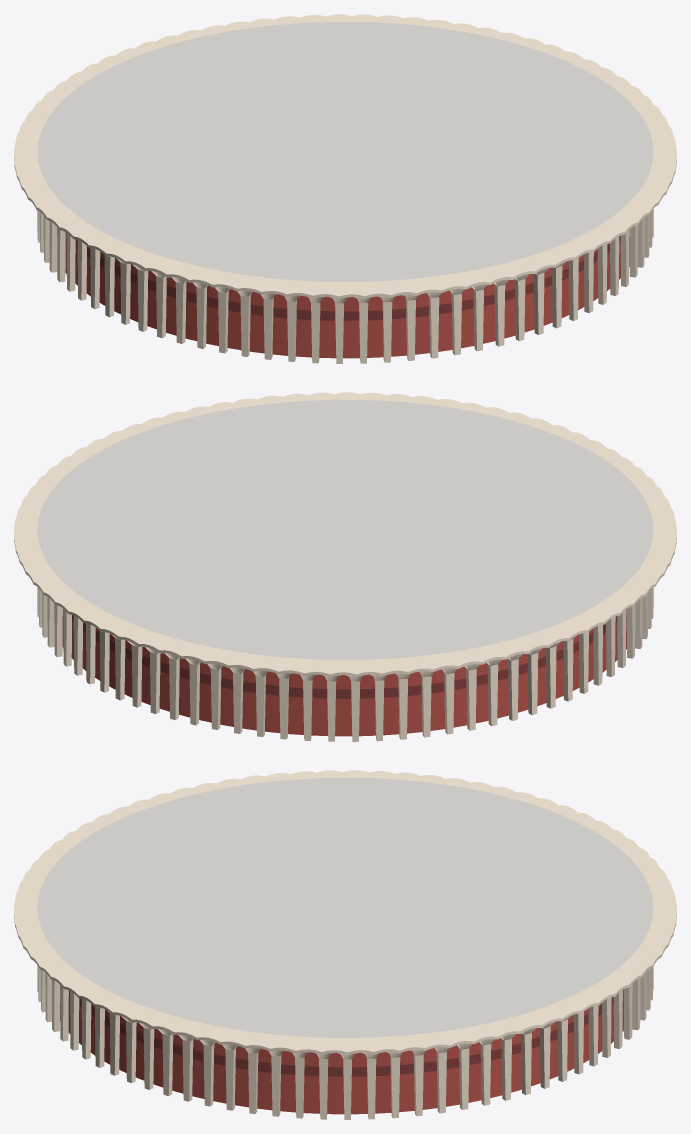
Rendered from la-kia-forum.glb.
The picture shows the model from 3 angles, top to bottom: view 1: azimuth 30°, elevation 25°; view 2: azimuth 150°, elevation 25°; view 3: azimuth 270°, elevation 25°; orthographic projection.
Visible parts, largest first — view 1: Kia Forum; view 2: Kia Forum; view 3: Kia Forum.
Boxes of the visible parts, <box> form: Kia Forum: <box>14,14,676,363</box>; Kia Forum: <box>14,392,676,741</box>; Kia Forum: <box>14,770,676,1119</box>.
Size of the model in its own units: 133 by 18.65 by 133.
